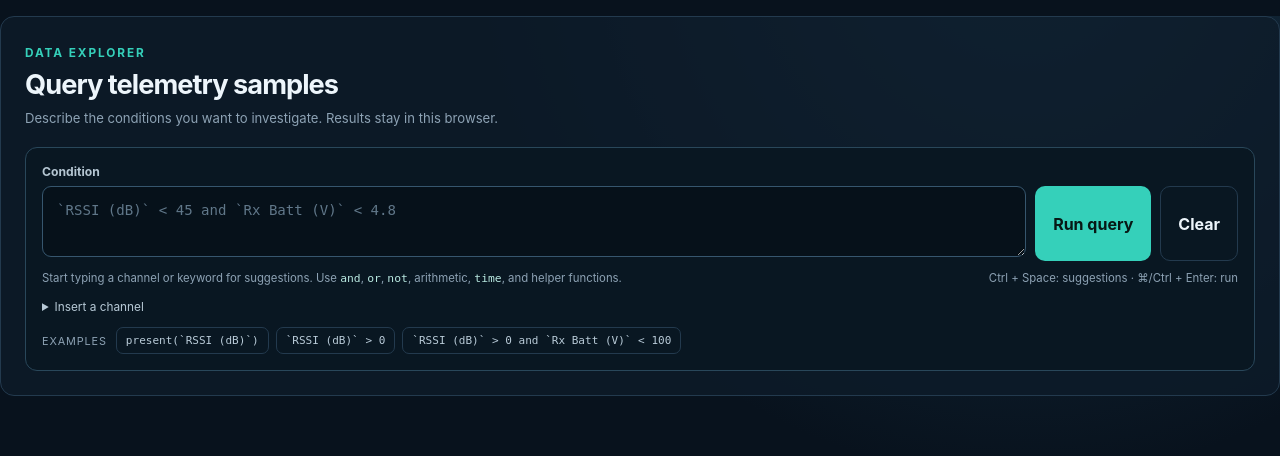
Scenario: TelemetryQuery › shows actionable query errors
Type "`Unknown` > 0" into the dropdown labelled "Condition".
click(534, 222); type("`Unknown` > 0")  # box top-left (42, 186), bottom-right (1026, 257)
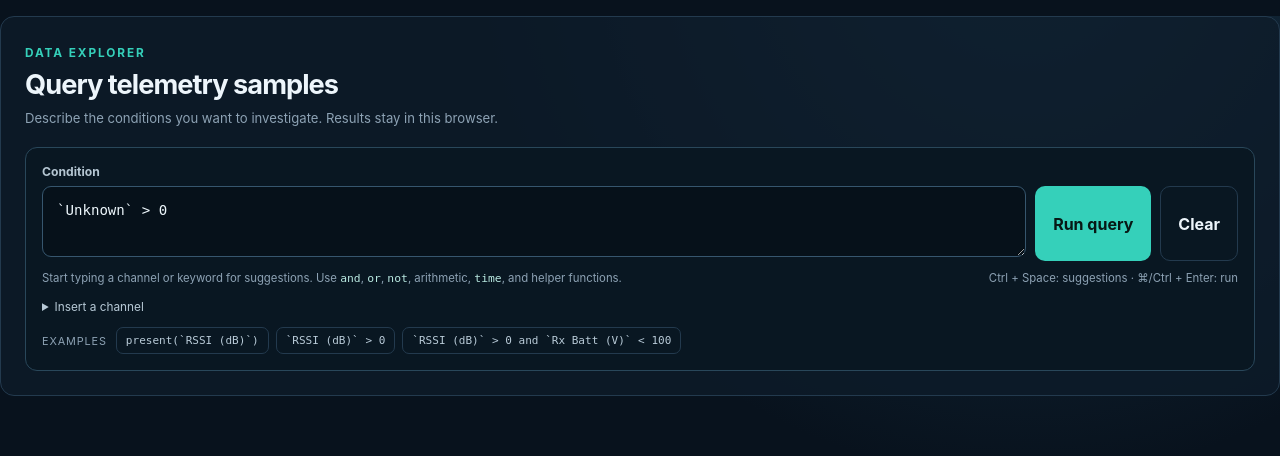
Click the button "Run query".
click(1093, 224)  # box top-left (1035, 186), bottom-right (1151, 261)
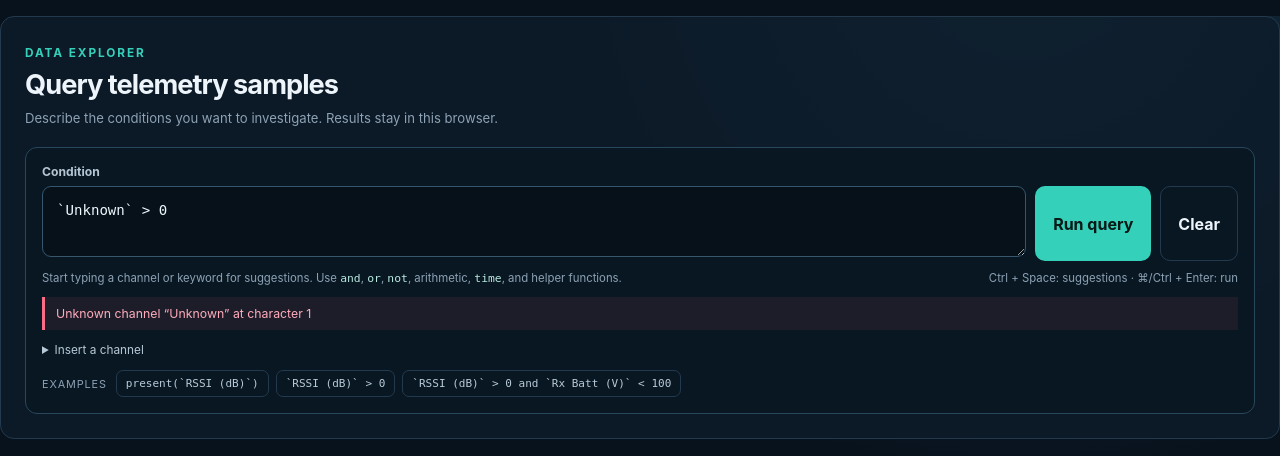
Expected: the message shows "Unknown channel “Unknown”", top-left (56, 306), bottom-right (311, 321)
